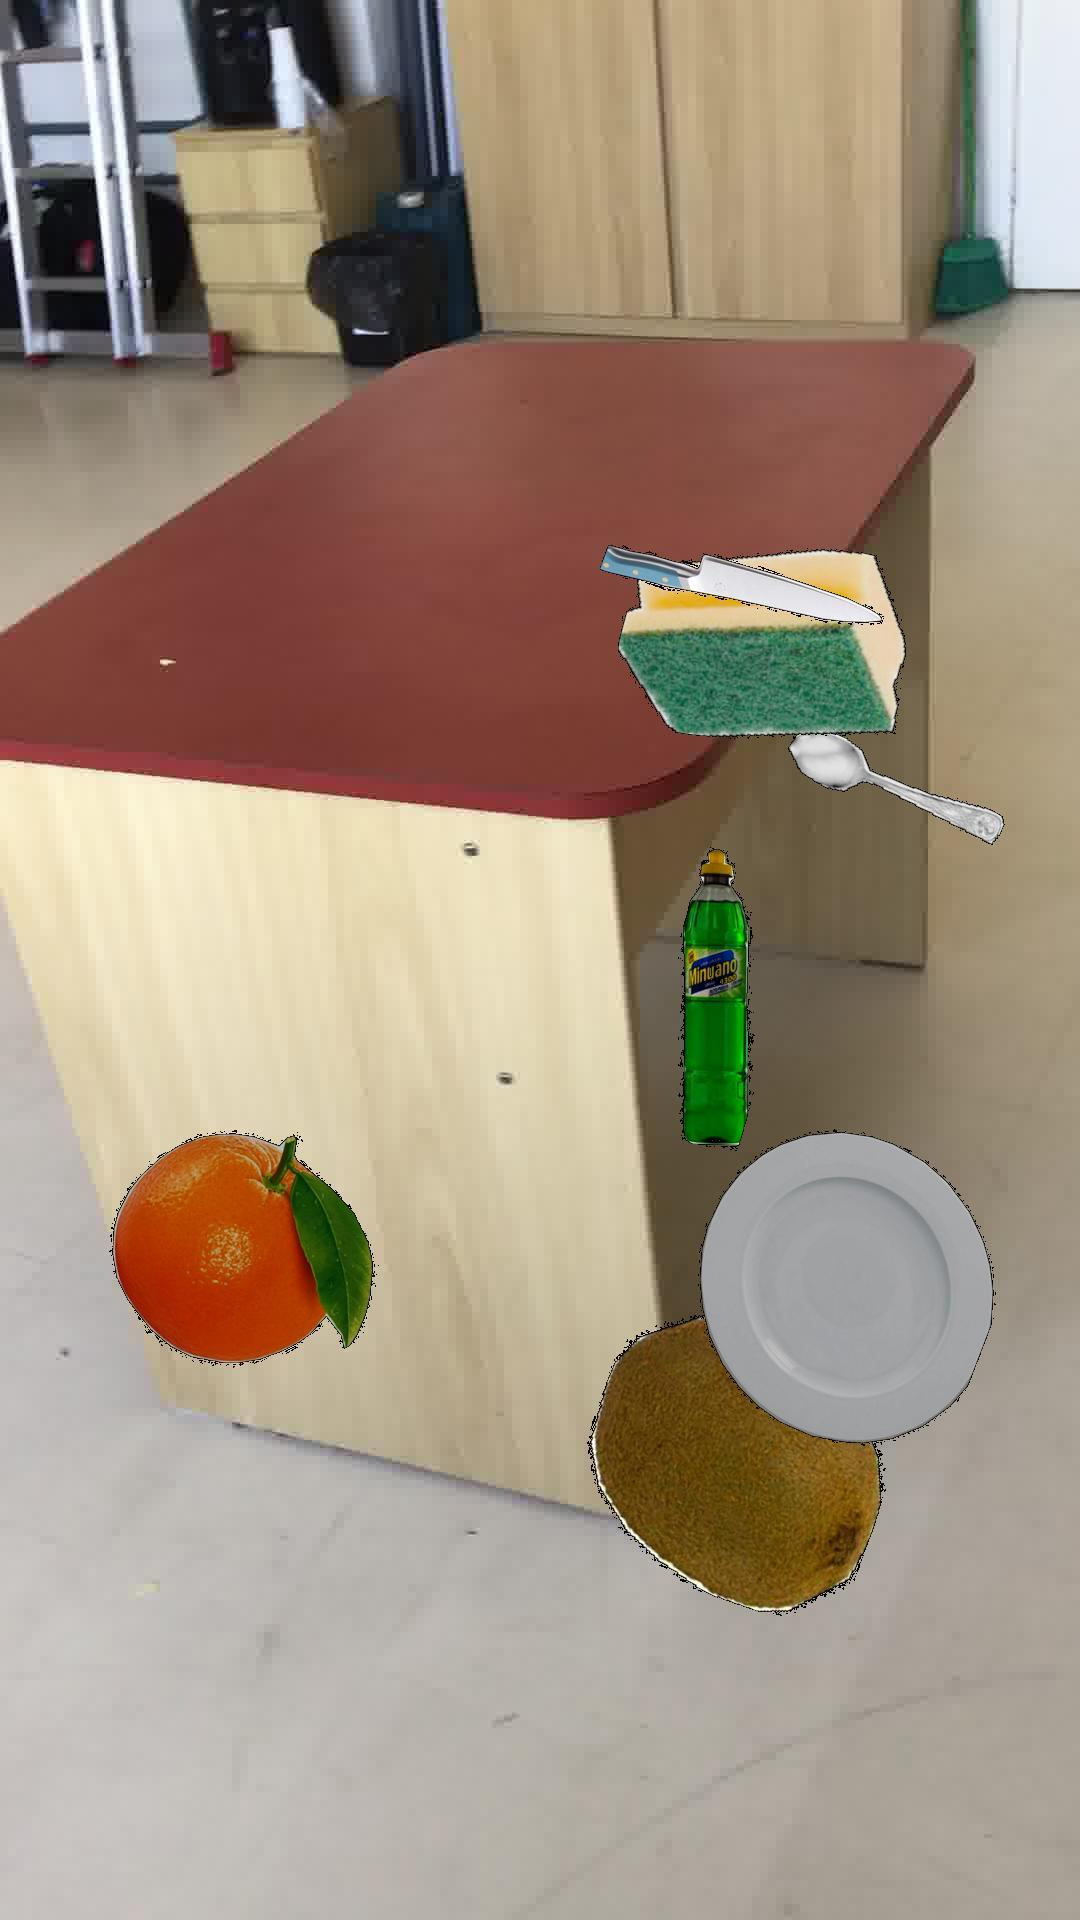cleaner: (679, 847, 753, 1146)
kiwi: (585, 1313, 882, 1614)
knife: (599, 543, 881, 622)
orange: (108, 1131, 373, 1365)
plate: (699, 1127, 993, 1444)
sponge: (617, 547, 905, 736)
spoon: (786, 732, 1004, 844)
